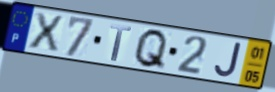2: (175, 35, 209, 75)
7: (66, 14, 96, 59)
J: (212, 42, 243, 80)
Q: (132, 27, 170, 72)
T: (109, 23, 133, 63)
X: (27, 10, 65, 53)
